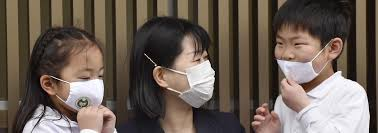mask_weared_incorrect: (275, 34, 324, 77)
with_mask: (179, 51, 218, 107), (68, 64, 110, 109)
